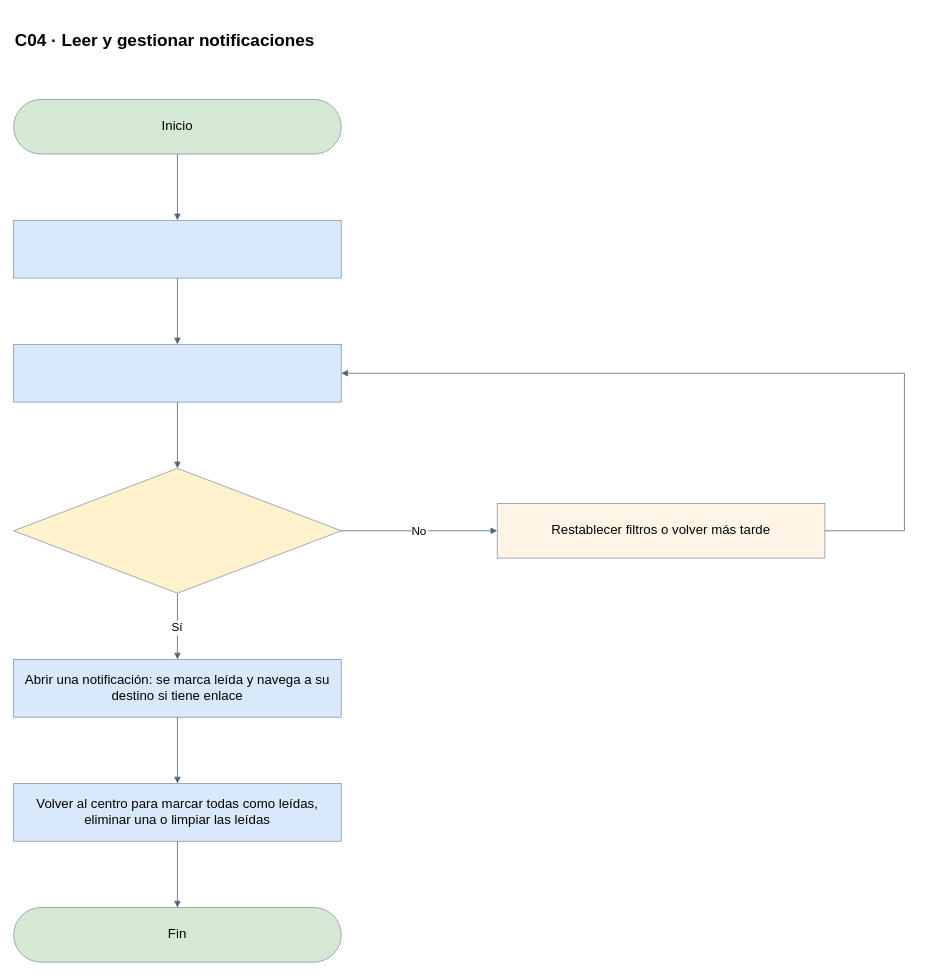
Image size: 948x976. Some labels were removed from this diagram. The box of each missing label's shape, as (x1, y1, x2, y2) in pixels:
Buscar y filtrar por estado y categoría; recorrer las páginas: (13, 344, 341, 402)
Pulsar la campana y abrir el centro de notificaciones: (13, 220, 341, 278)
¿Hay notificaciones coincidentes?: (13, 468, 341, 593)
